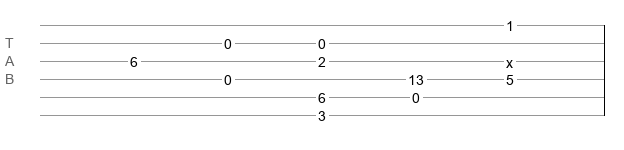0: (224, 36, 232, 46), (224, 72, 232, 82), (318, 36, 326, 46), (412, 90, 420, 100)
1: (506, 18, 514, 28)
13: (408, 72, 424, 82)
2: (318, 54, 326, 64)
3: (318, 108, 326, 118)
5: (506, 72, 514, 82)
6: (130, 54, 138, 64), (318, 90, 326, 100)
x: (506, 55, 513, 63)
